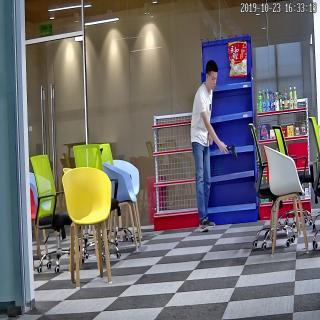gun: (218, 137, 238, 160)
